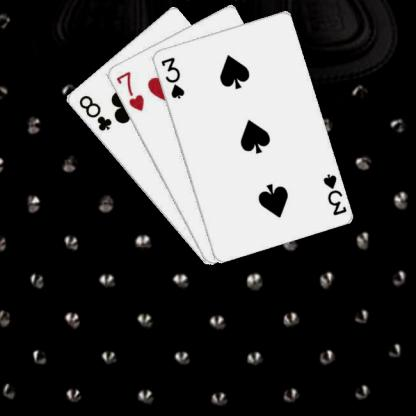3S: (158, 54, 186, 100), (320, 171, 348, 217)
7H: (113, 68, 145, 112)
8C: (76, 92, 112, 133)
